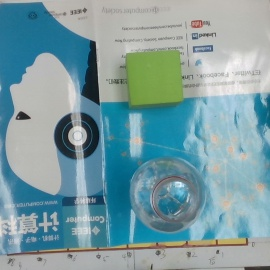bottle: (130, 158, 207, 232)
